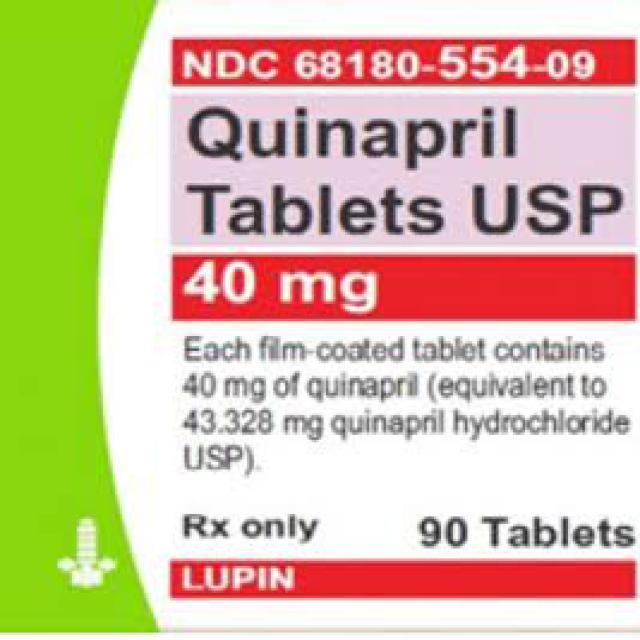drug-name: (185, 97, 538, 170)
